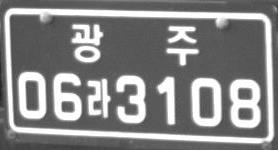0: (190, 76, 223, 128), (17, 70, 47, 120)
1: (155, 75, 184, 126)
3: (114, 74, 147, 124)
6: (52, 71, 82, 121)
8: (228, 77, 262, 128)
광주_D: (70, 22, 199, 66)
라: (87, 77, 111, 119)
